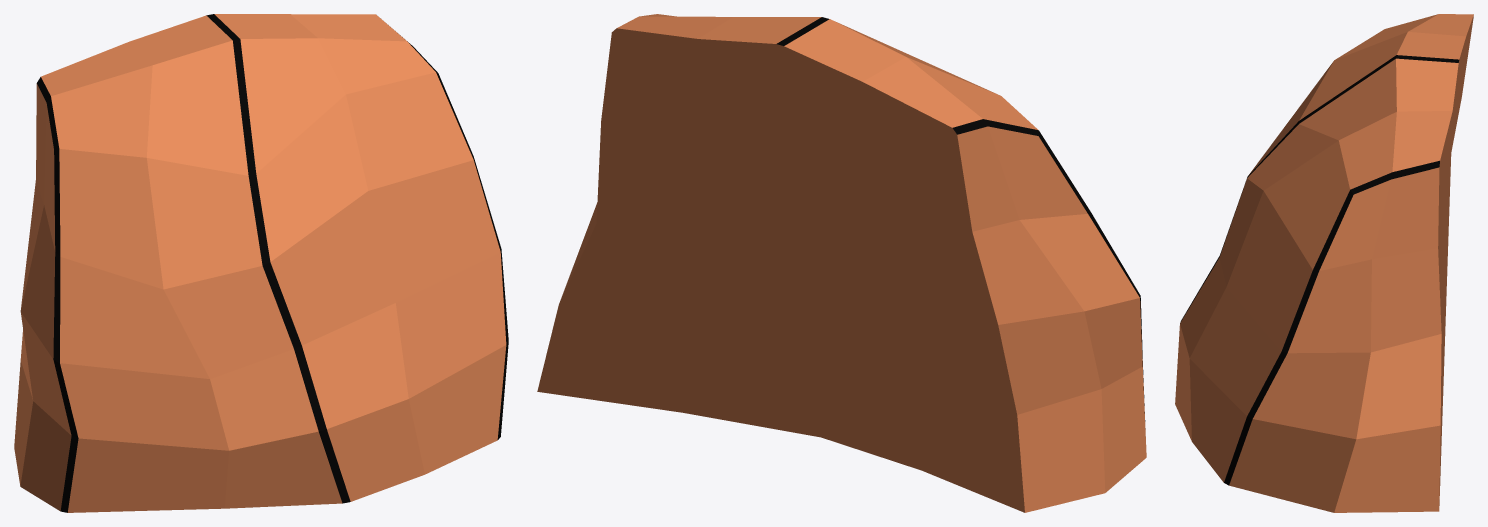
File: RockWall04.fbx
3 views of the same model, side by side, from view 1: azimuth 30°, elevation 25°; view 2: azimuth 150°, elevation 25°; view 3: azimuth 270°, elevation 25° (orthographic). The views are drawn at different scales.
Visible parts, largest first — view 1: Cube.019; view 2: Cube.019; view 3: Cube.019.
Part boxes in pixels (x1=…): Cube.019: x1=14, y1=14, x2=508, y2=512; Cube.019: x1=537, y1=14, x2=1146, y2=512; Cube.019: x1=1175, y1=14, x2=1473, y2=512.
Bounding box in the file's own units: 1337 × 1018 × 781.
